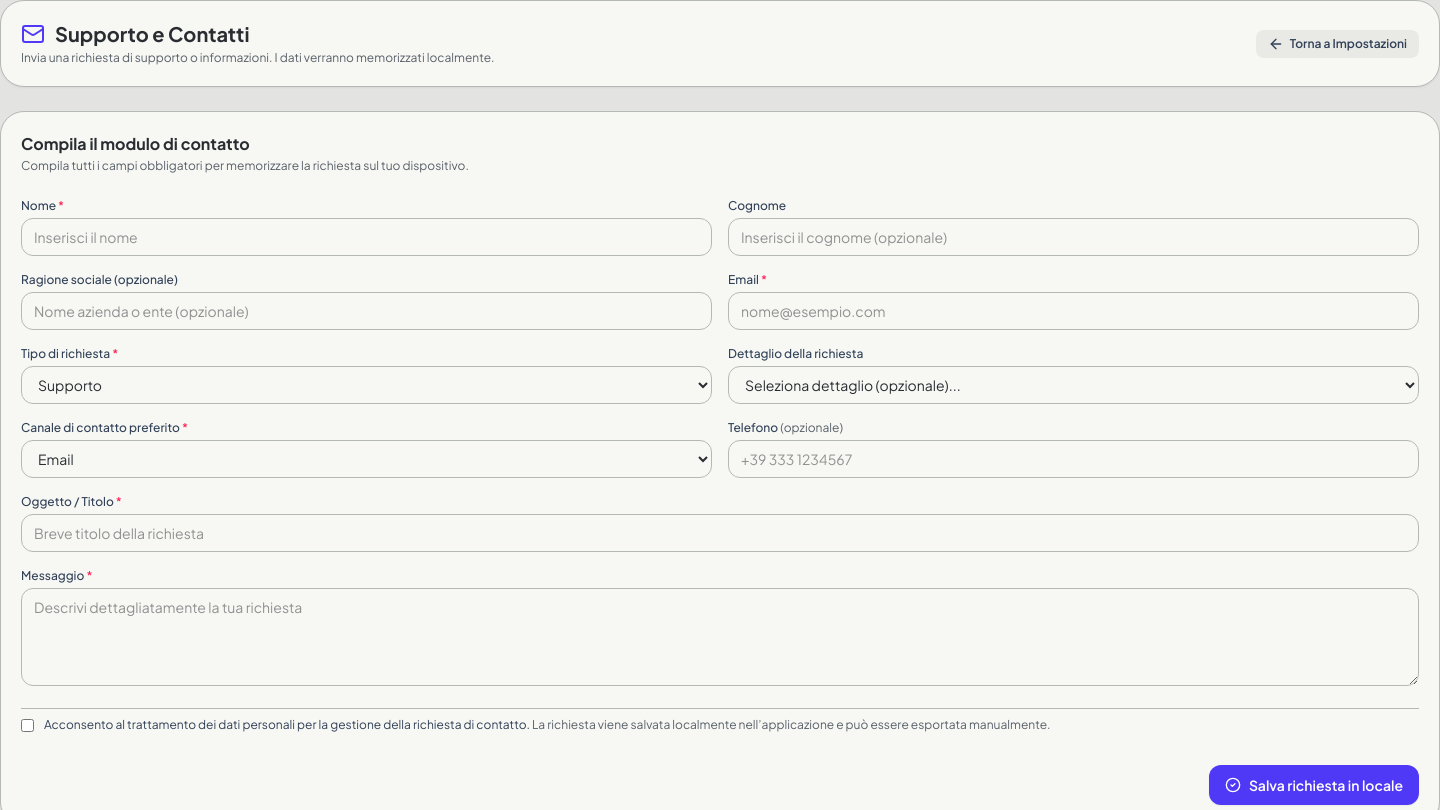
Sottofase 2.3.B.3 - Modulo UI Supporto e Contatti (/settings/contact) › 3: Validazione consenso privacy obbligatorio
# Compila i campi di testo senza spuntare il consenso privacy
Type "Giuseppe" into the field labelled "Nome *".
click(366, 237); type("Giuseppe")  # box [21,218,712,256]
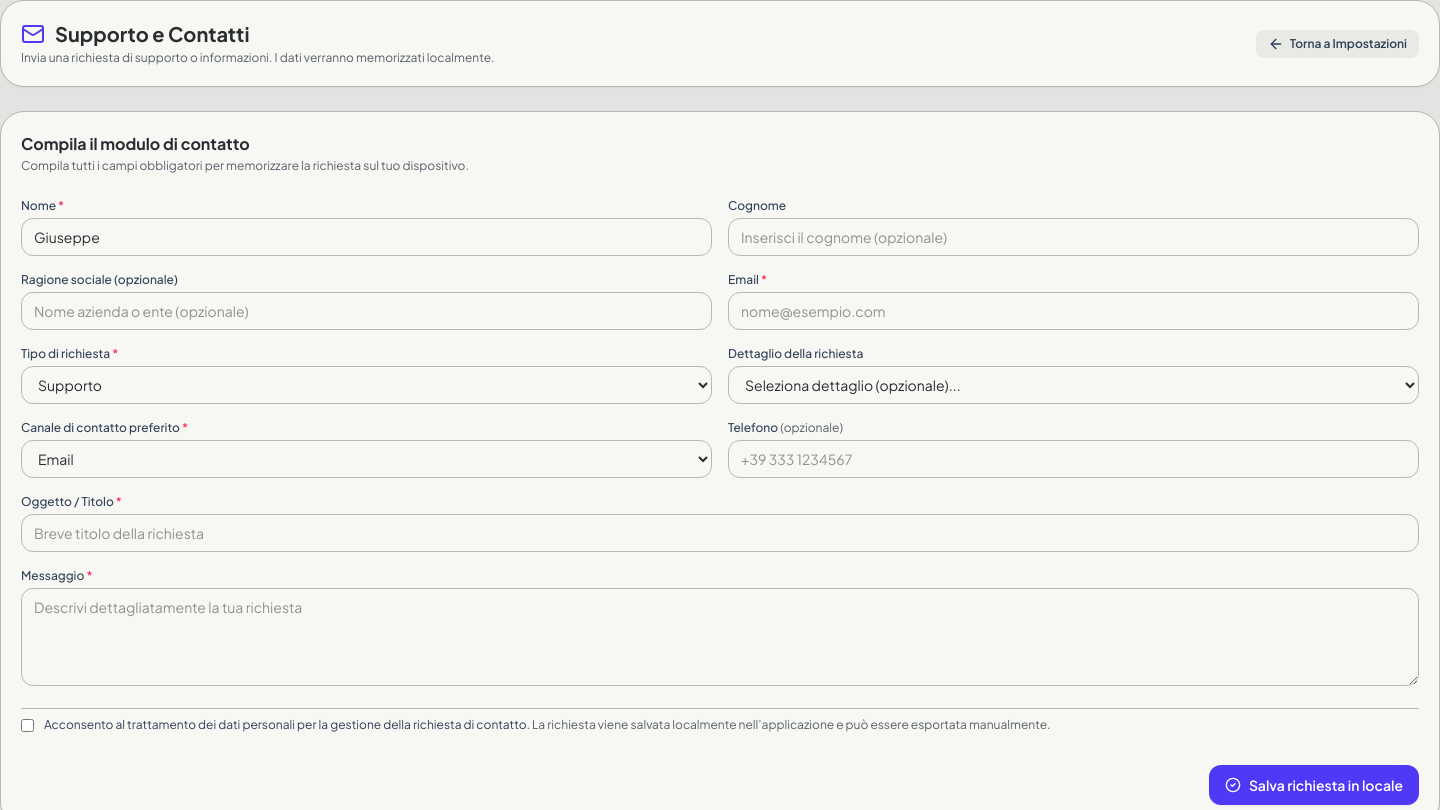
Type "giuseppe@example.com" into the field labelled "Email *".
click(1074, 311); type("giuseppe@example.com")  # box [728,292,1419,330]
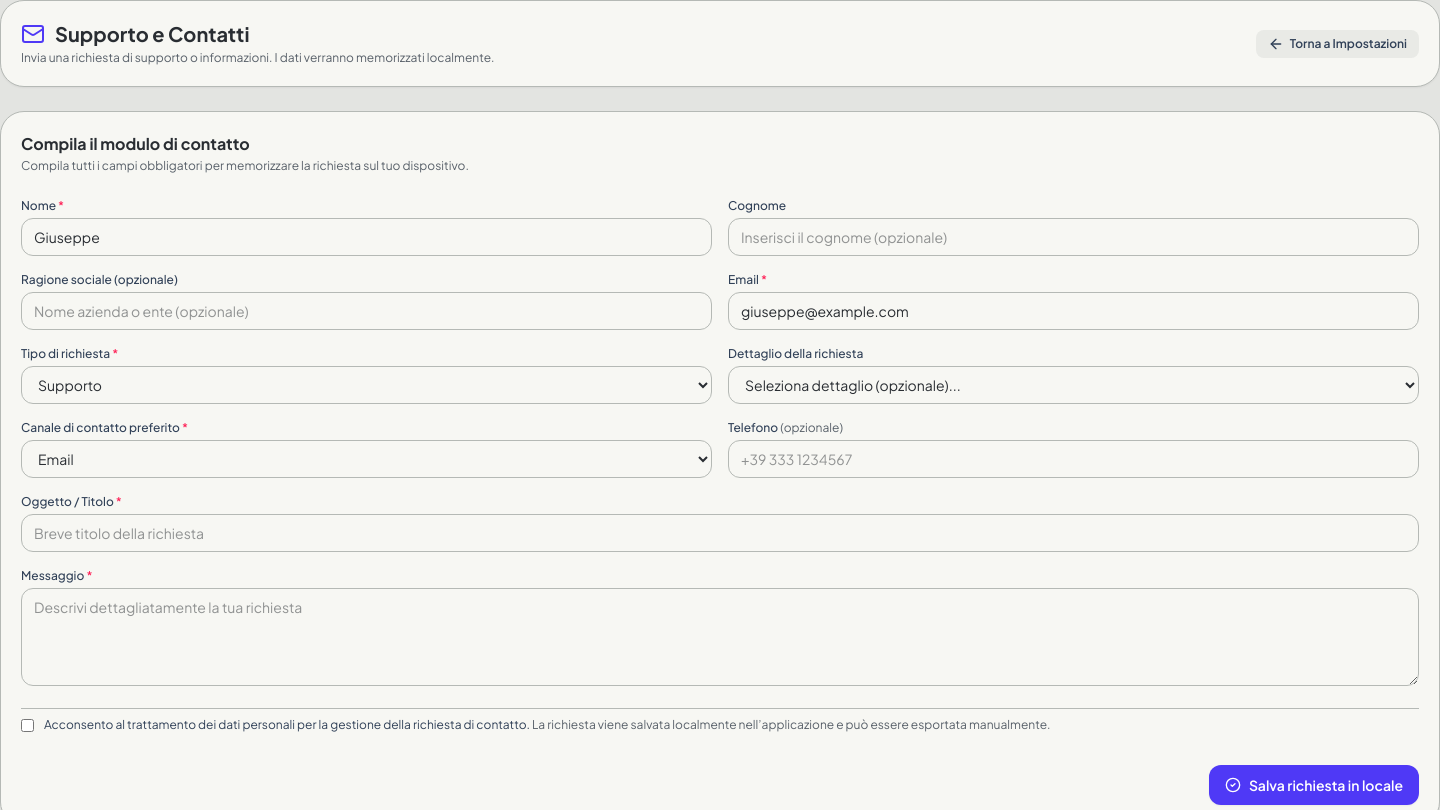
Type "Richiesta info" into the field labelled "Oggetto / Titolo *".
click(720, 533); type("Richiesta info")  # box [21,514,1419,552]
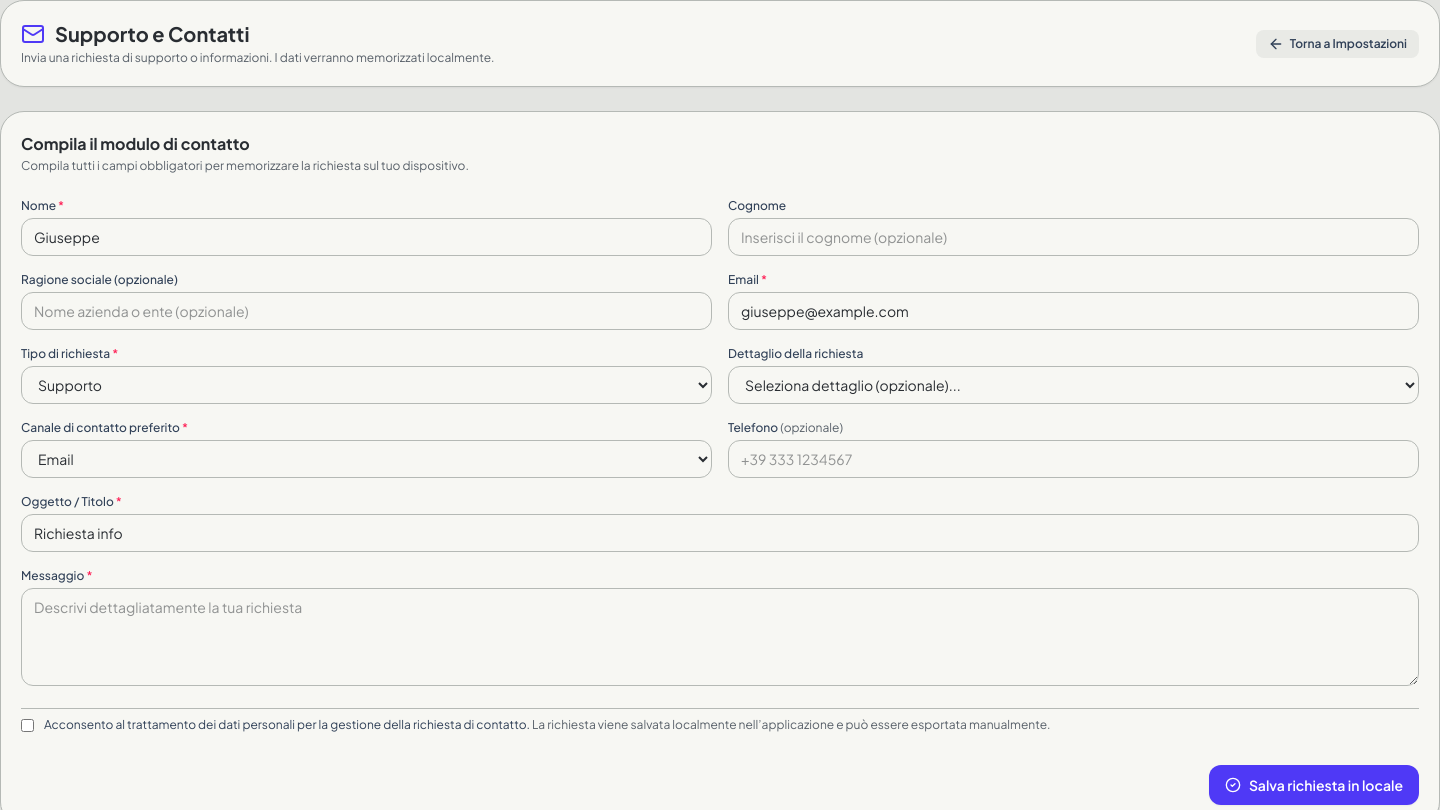
Type "Messaggio di prova per privacy" into the text box labelled "Messaggio *".
click(720, 637); type("Messaggio di prova per privacy")  # box [21,588,1419,686]
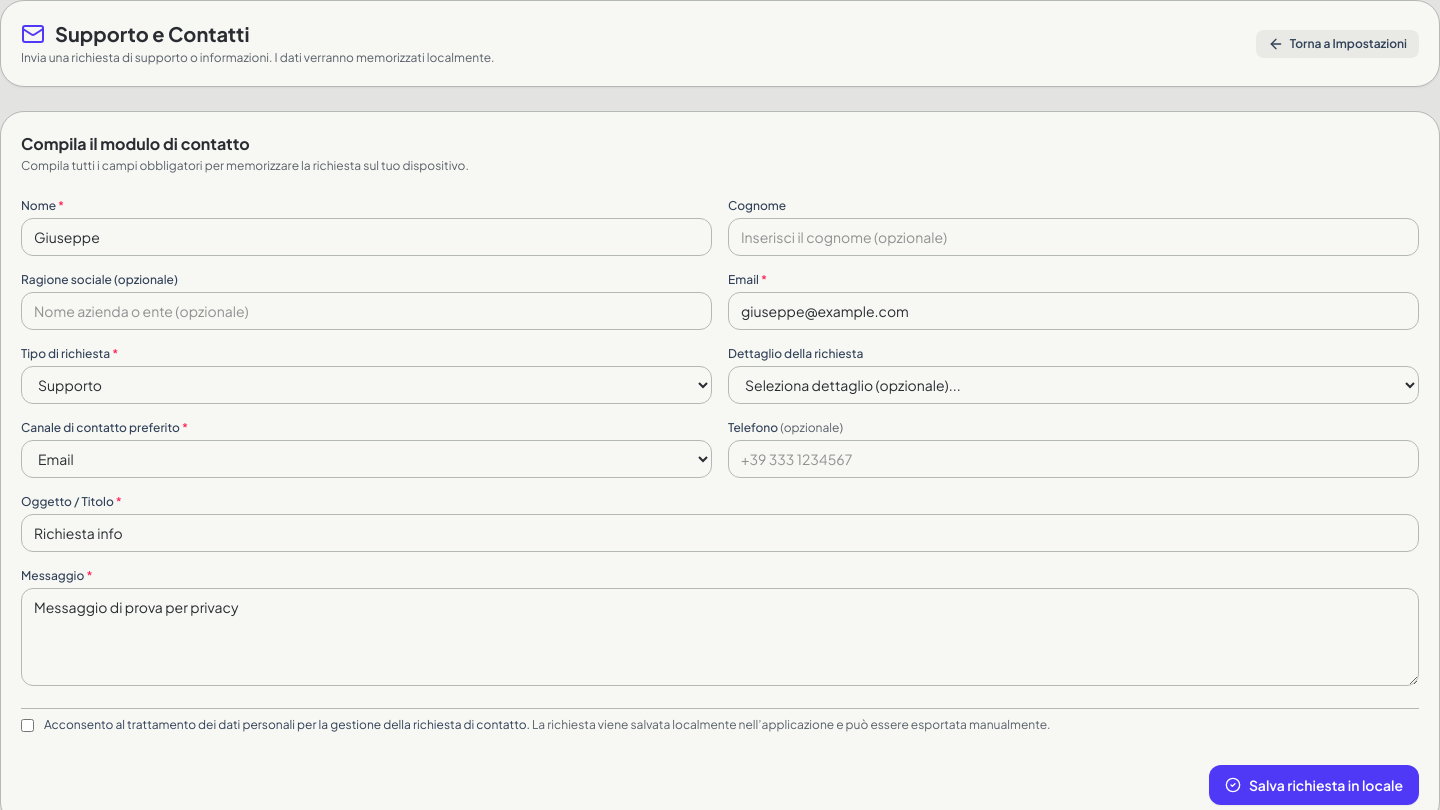
# Submit form senza checkbox privacy
Submit the form named "Salva richiesta in locale"
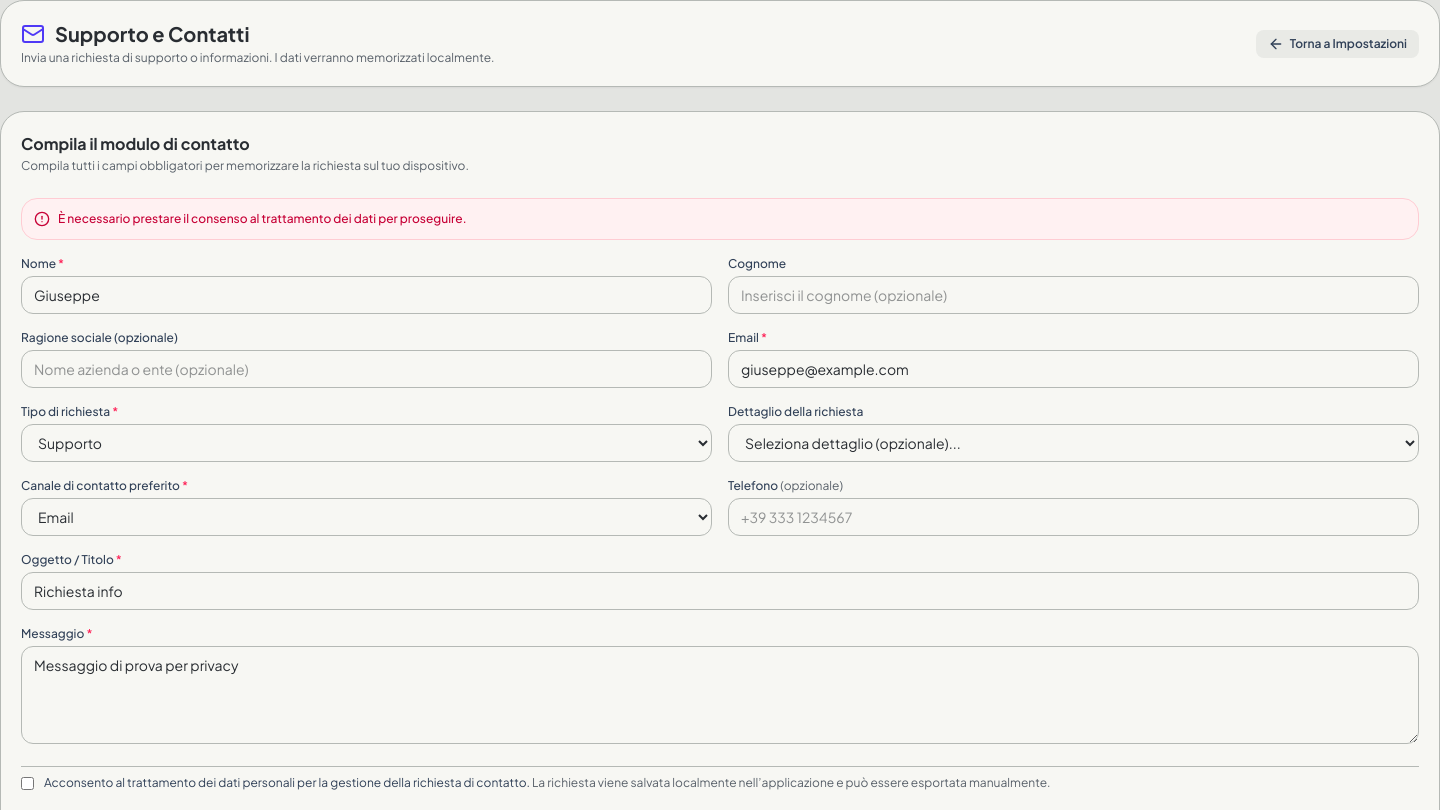
expect the text "consenso al trattamento dei dati" is shown: met, box [58,211,466,226]
